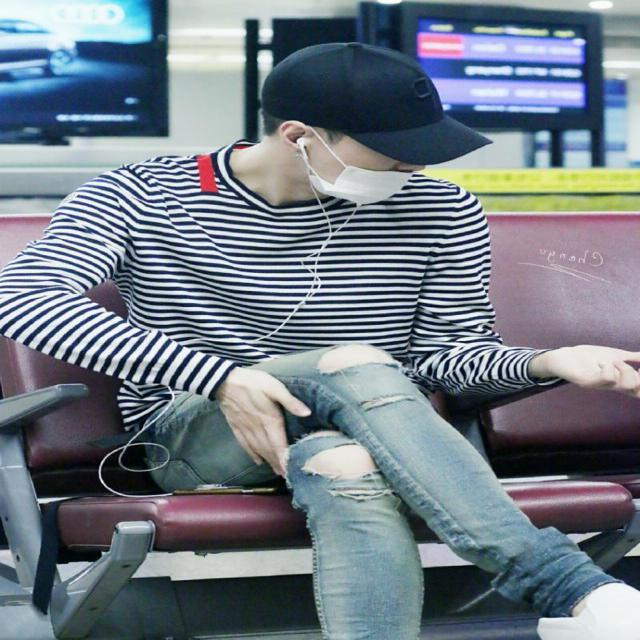face: (247, 42, 496, 210)
